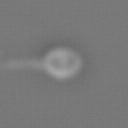normal: (1, 49, 45, 86)
